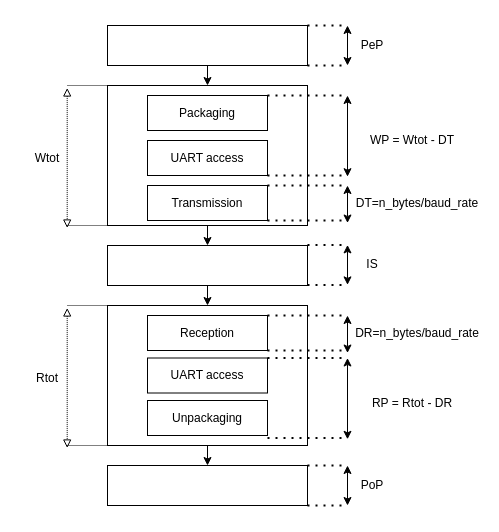
This 499x532 diagram has some shape labels left out. The shapes that lost their labels are listed below. From the top down, each one's box as (x1, y1, x2, y2) in pixels, then its label:
(106, 24, 308, 66): Pre-processing
(106, 244, 308, 286): Inference
(106, 464, 308, 506): Post-processing
